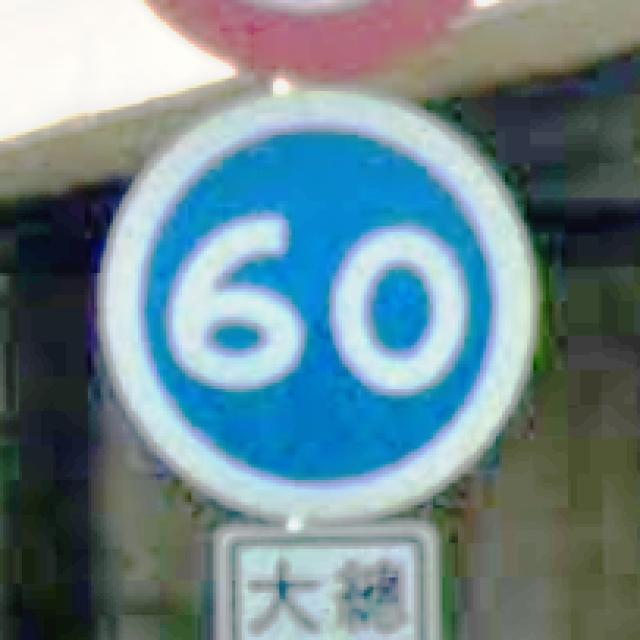min60: (94, 82, 540, 520)
